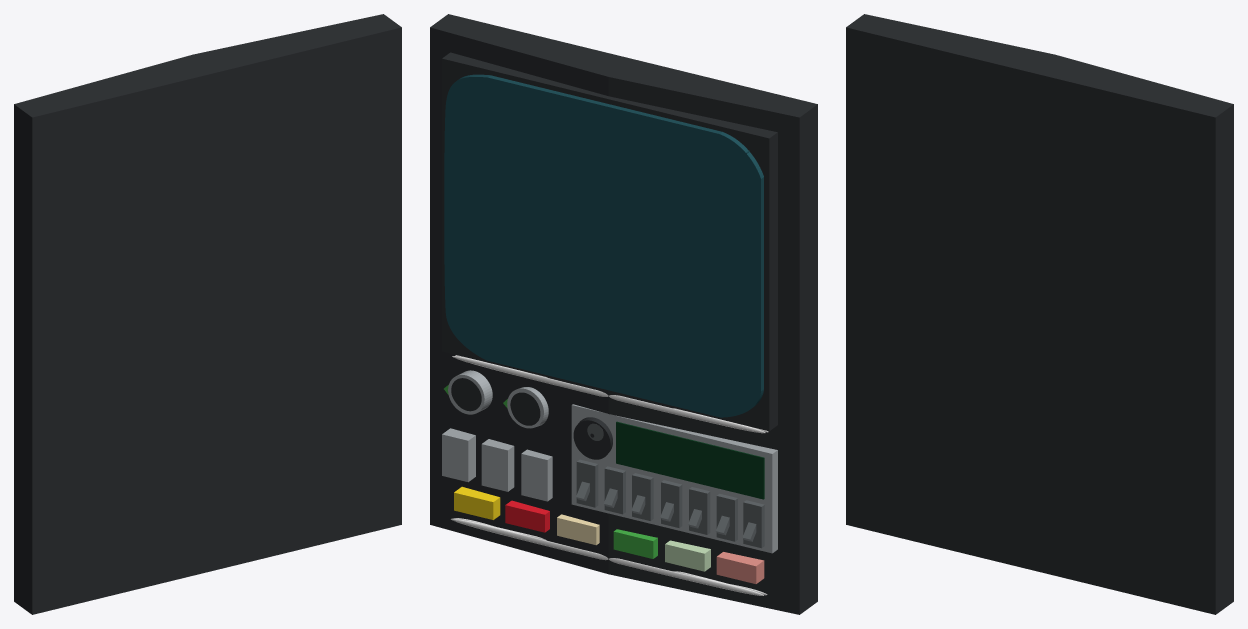
Rendered from tinker.obj.
3 views of the same model, side by side, from view 1: azimuth 30°, elevation 25°; view 2: azimuth 150°, elevation 25°; view 3: azimuth 330°, elevation 25° (orthographic).
Visible parts, largest first — view 1: obj_6; view 2: obj_0, obj_6, obj_1, obj_8, obj_22, obj_17, obj_18, obj_2, obj_3, obj_4, obj_16, obj_11 (+16 smaller); view 3: obj_6.
Part boxes in pixels (bbox=[...]): obj_6: bbox=[14, 14, 401, 614]; obj_0: bbox=[444, 74, 763, 417]; obj_6: bbox=[430, 14, 817, 614]; obj_1: bbox=[442, 52, 777, 431]; obj_8: bbox=[571, 404, 777, 553]; obj_22: bbox=[616, 421, 764, 499]; obj_17: bbox=[451, 518, 764, 595]; obj_18: bbox=[452, 356, 765, 433]; obj_2: bbox=[442, 428, 475, 482]; obj_3: bbox=[481, 439, 514, 491]; obj_4: bbox=[521, 449, 552, 501]; obj_16: bbox=[716, 552, 764, 583]; obj_11: bbox=[454, 486, 500, 519]; obj_6: bbox=[846, 14, 1233, 614].
Bounding box in the file's own units: 70 × 90 × 11.
